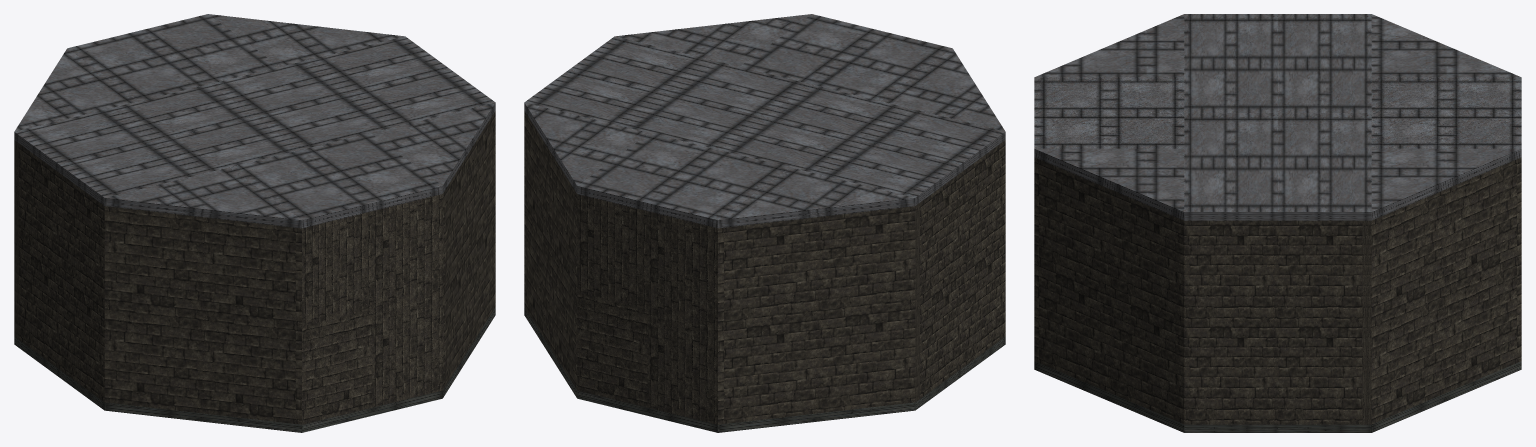
Rendered from dungeon2.fbx.
3 views of the same model, side by side, from view 1: azimuth 30°, elevation 25°; view 2: azimuth 150°, elevation 25°; view 3: azimuth 270°, elevation 25° (orthographic). The views are drawn at different scales.
Parts seen in each view (by area): view 1: Roof, Wall1, Opening1, Opening3, Floor, Wall3, Opening4; view 2: Roof, Wall3, Opening4, Opening3, Floor; view 3: Roof, Opening2, Wall3, Wall1, Floor, Opening4, Opening1.
Part boxes in pixels (bbox=[...]): Roof: bbox=[14, 14, 495, 228]; Wall1: bbox=[104, 111, 495, 423]; Opening1: bbox=[295, 192, 444, 424]; Opening3: bbox=[18, 143, 104, 401]; Floor: bbox=[14, 307, 495, 432]; Wall3: bbox=[14, 140, 18, 339]; Opening4: bbox=[14, 141, 18, 290]; Roof: bbox=[524, 14, 1005, 228]; Wall3: bbox=[524, 111, 919, 423]; Opening4: bbox=[575, 192, 919, 424]; Opening3: bbox=[920, 140, 1005, 398]; Floor: bbox=[524, 307, 1005, 432]; Roof: bbox=[1034, 14, 1521, 220]; Opening2: bbox=[1184, 220, 1362, 424]; Wall3: bbox=[1362, 159, 1516, 424]; Wall1: bbox=[1039, 159, 1184, 424]; Floor: bbox=[1034, 361, 1521, 432]; Opening4: bbox=[1362, 157, 1521, 424]; Opening1: bbox=[1034, 157, 1038, 362].
Size of what is drawn, in the model's own units: 2500 by 1300 by 2600.
